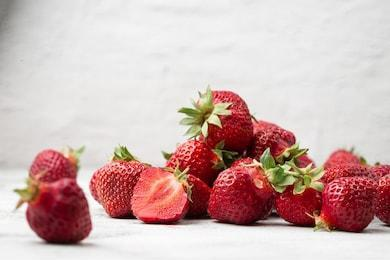Fresa: (23, 175, 95, 247), (205, 164, 278, 228), (190, 87, 257, 153), (91, 156, 152, 221), (319, 172, 378, 235)
